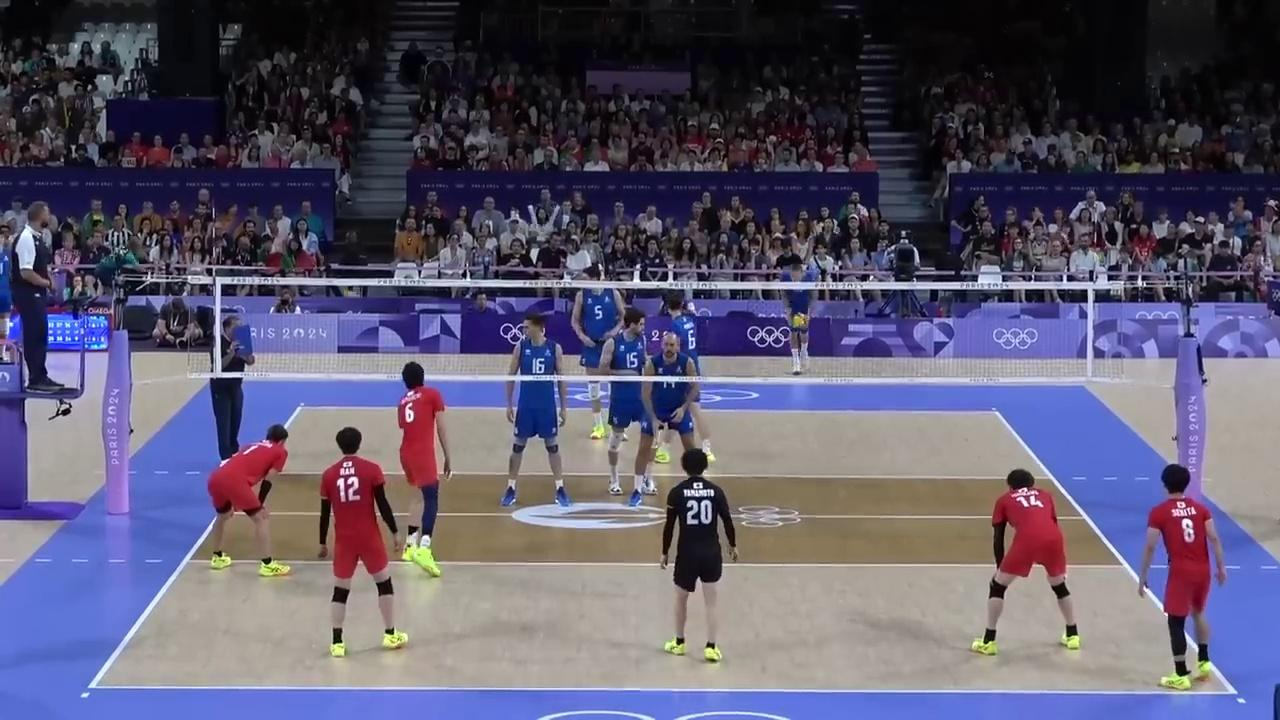ball: (792, 313, 804, 328)
